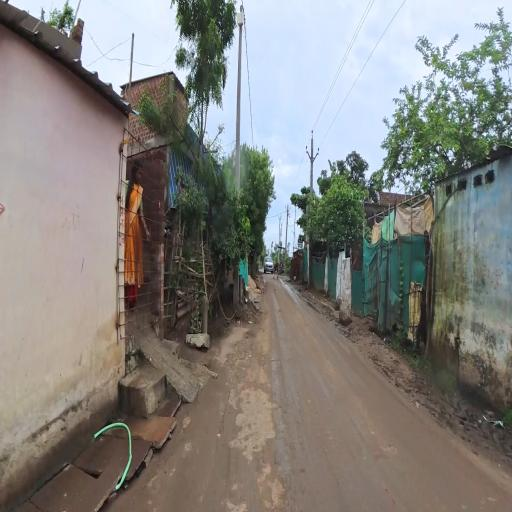ravelling: (225, 346, 305, 510)
